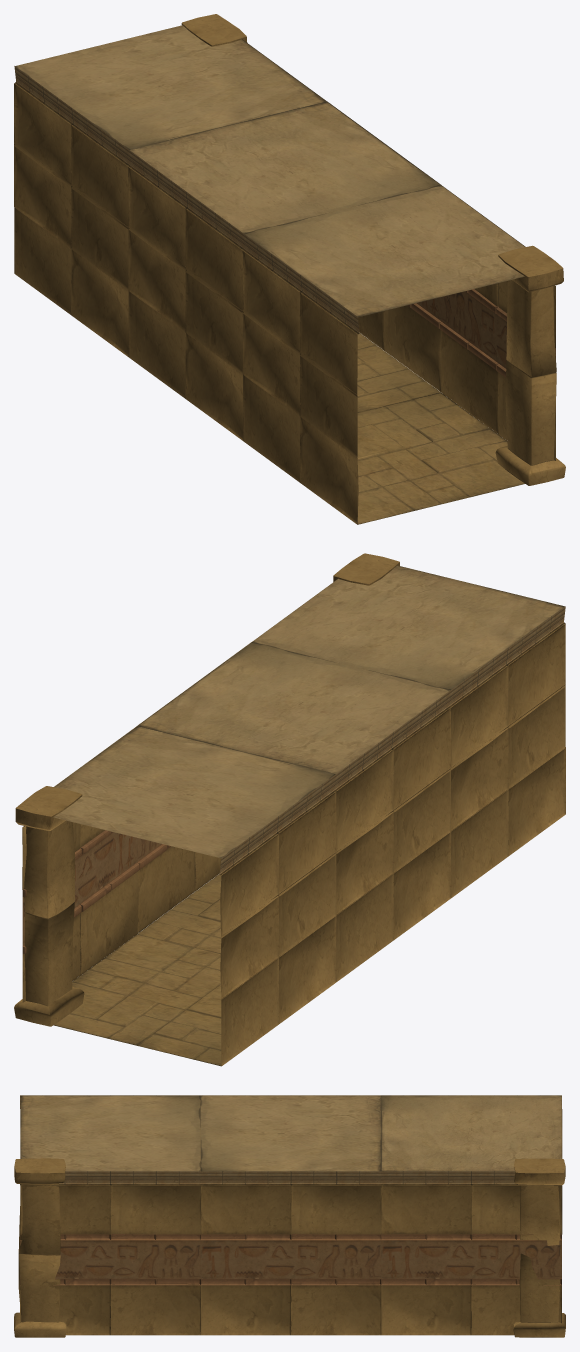
Rendered from m_Straight01.FBX.
The picture shows the model from 3 angles, top to bottom: view 1: azimuth 30°, elevation 25°; view 2: azimuth 150°, elevation 25°; view 3: azimuth 270°, elevation 25°; orthographic projection. The views are drawn at different scales.
Parts seen in each view (by area): view 1: m_Straight01; view 2: m_Straight01; view 3: m_Straight01.
Boxes of the visible parts, x1,y1,x2,y2 form: m_Straight01: [14, 14, 565, 524]; m_Straight01: [14, 553, 565, 1066]; m_Straight01: [14, 1095, 565, 1337].
Bounding box in the file's own units: 105 × 306 × 101.
1 material, 1 textured.
